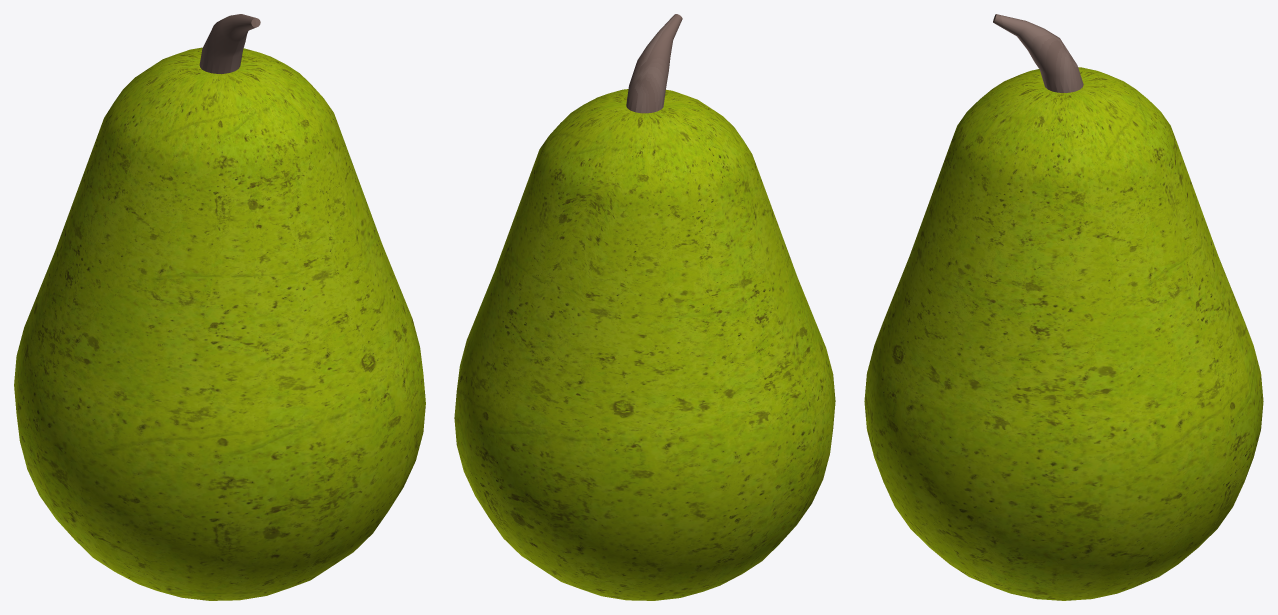
File: pear.fbx
3 views of the same model, side by side, from view 1: azimuth 30°, elevation 25°; view 2: azimuth 150°, elevation 25°; view 3: azimuth 270°, elevation 25° (orthographic). The views are drawn at different scales.
Parts seen in each view (by area): view 1: pear; view 2: pear; view 3: pear.
Boxes of the visible parts, left/top/right/bottom form: pear: left=14, top=14, right=425, bottom=600; pear: left=454, top=14, right=835, bottom=600; pear: left=864, top=14, right=1263, bottom=600.
Bounding box in the file's own units: 2 × 3.14 × 2.
2 materials, 2 textured.
